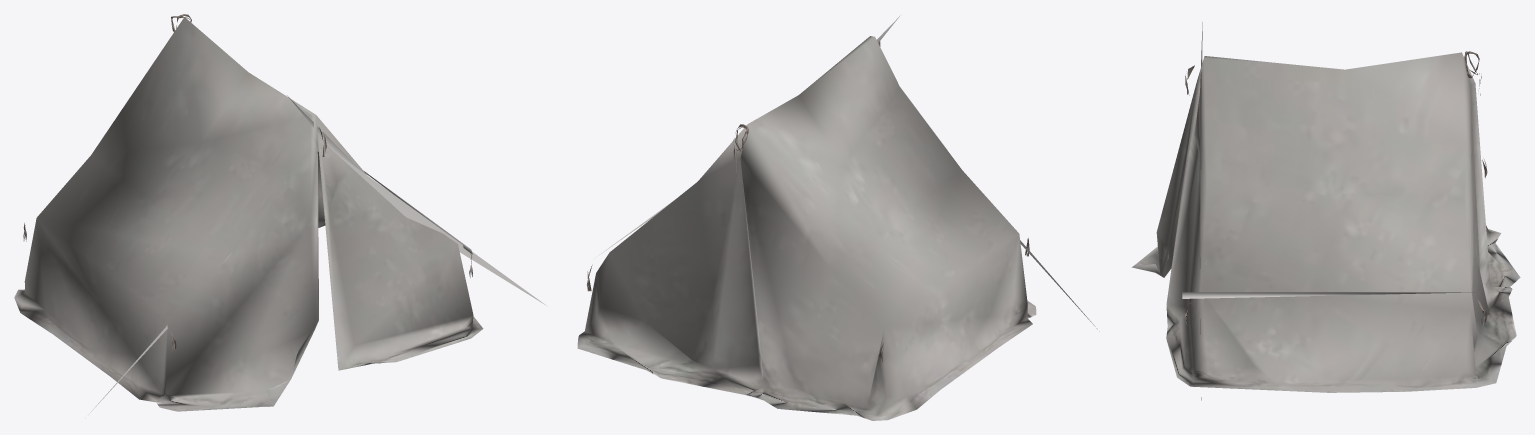
The model's file is tent-canvas.lod1.glb.
The picture shows the model from 3 angles, left to right: view 1: azimuth 30°, elevation 25°; view 2: azimuth 150°, elevation 25°; view 3: azimuth 270°, elevation 25°; orthographic projection. The views are drawn at different scales.
Parts seen in each view (by area): view 1: Tent_Tent_0, Sticks_Stick_0; view 2: Tent_Tent_0, Sticks_Stick_0; view 3: Tent_Tent_0, Sticks_Stick_0.
Boxes of the visible parts, bbox=[...] form: Tent_Tent_0: bbox=[14, 17, 483, 411]; Sticks_Stick_0: bbox=[23, 14, 547, 418]; Tent_Tent_0: bbox=[577, 36, 1036, 420]; Sticks_Stick_0: bbox=[587, 15, 1099, 361]; Tent_Tent_0: bbox=[1131, 52, 1520, 392]; Sticks_Stick_0: bbox=[1182, 22, 1487, 400].
Bounding box in the file's own units: 3.96 × 2.26 × 2.85.
Materials: 2 (1 with a texture image).
